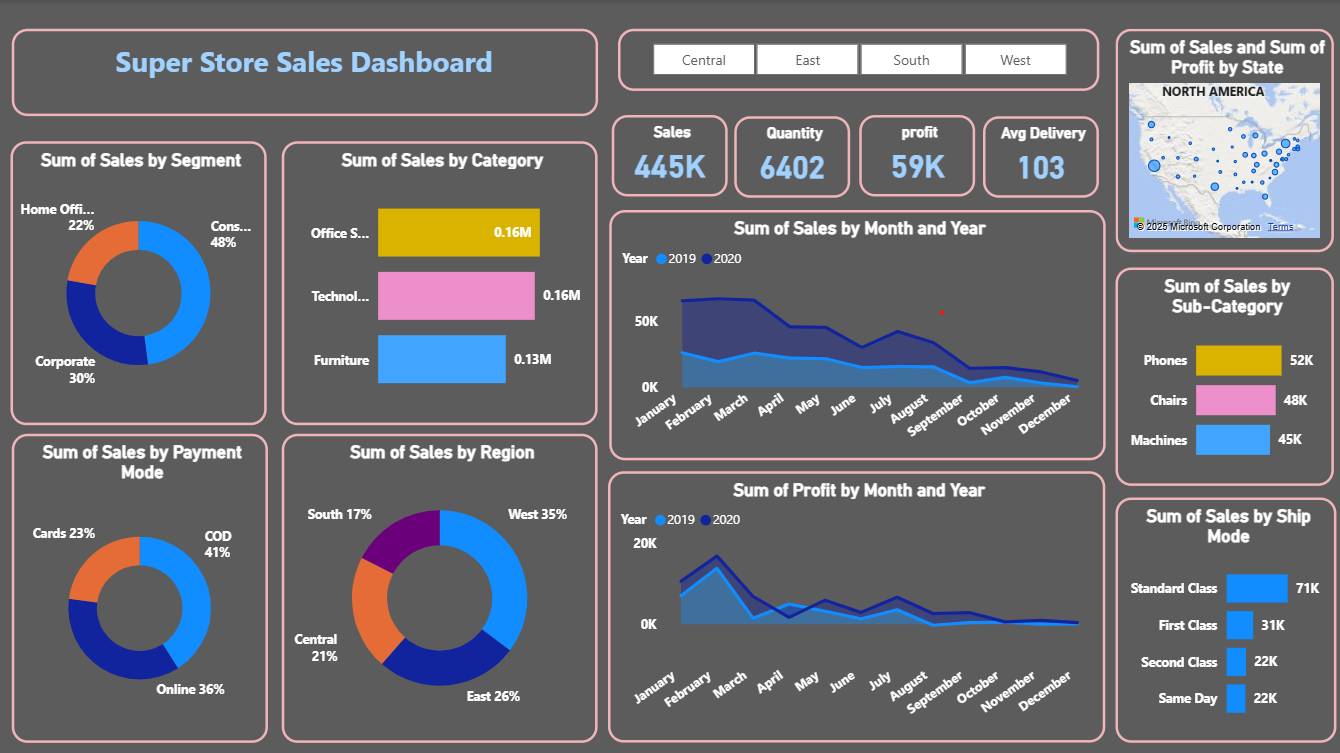

What the dashboard file says about the page in this screenshot:
{"tool":"powerbi","page":{"name":"Page 1","canvas":[1280,720],"ordinal":0},"visuals":[{"type":"clusteredBarChart","fields":{"Category":["SuperStore_Sales_Dataset.Category"],"Y":["Sum(SuperStore_Sales_Dataset.Sales)"]},"box":[270.2,134.5,301.2,270.2],"z":0},{"type":"clusteredBarChart","fields":{"Category":["SuperStore_Sales_Dataset.Sub-Category"],"Y":["Sum(SuperStore_Sales_Dataset.Sales)"]},"box":[1064.3,254.8,208.3,208.3],"z":1000},{"type":"clusteredBarChart","fields":{"Category":["SuperStore_Sales_Dataset.Ship Mode"],"Y":["Sum(SuperStore_Sales_Dataset.Sales)"]},"box":[1064.3,473.8,210.7,233.3],"z":2000},{"type":"stackedAreaChart","fields":{"Category":["SuperStore_Sales_Dataset.Order Date.Variation.Date Hierarchy.Month","SuperStore_Sales_Dataset.Order Date.Variation.Date Hierarchy.Day"],"Y":["Sum(SuperStore_Sales_Dataset.Sales)"],"Series":["SuperStore_Sales_Dataset.Order Date.Variation.Date Hierarchy.Year"]},"box":[582.1,200,472.6,238.1],"z":3000},{"type":"stackedAreaChart","fields":{"Category":["SuperStore_Sales_Dataset.Order Date.Variation.Date Hierarchy.Month","SuperStore_Sales_Dataset.Order Date.Variation.Date Hierarchy.Day"],"Series":["SuperStore_Sales_Dataset.Order Date.Variation.Date Hierarchy.Year"],"Y":["Sum(SuperStore_Sales_Dataset.Profit)"]},"box":[581,448.8,473.8,258.3],"z":4000},{"type":"map","fields":{"Category":["SuperStore_Sales_Dataset.State"],"Size":["Sum(SuperStore_Sales_Dataset.Sales)"]},"box":[1064.3,27.4,208.3,213.1],"z":5000},{"type":"donutChart","fields":{"Category":["SuperStore_Sales_Dataset.Segment"],"Y":["Sum(SuperStore_Sales_Dataset.Sales)"]},"box":[11.9,134.5,244,270.2],"z":6000},{"type":"donutChart","fields":{"Category":["SuperStore_Sales_Dataset.Payment Mode"],"Y":["Sum(SuperStore_Sales_Dataset.Sales)"]},"box":[13.1,413.1,244,294],"z":7000},{"type":"donutChart","fields":{"Category":["SuperStore_Sales_Dataset.Region"],"Y":["Sum(SuperStore_Sales_Dataset.Sales)"]},"box":[270.2,413.1,301.2,294],"z":8000},{"type":"slicer","fields":{"Values":["SuperStore_Sales_Dataset.Region"]},"box":[590.5,27.4,458.3,59.5],"z":9000},{"type":"textbox","box":[13.1,27.4,558.3,83.3],"z":10000},{"type":"card","title":"Sales","fields":{"Values":["Sum(SuperStore_Sales_Dataset.Sales)"]},"box":[584.5,109.5,110.7,77.4],"z":11000},{"type":"card","title":"Quantity","fields":{"Values":["Sum(SuperStore_Sales_Dataset.Quantity)"]},"box":[701.2,110.7,110.7,77.4],"z":12000},{"type":"card","title":"profit","fields":{"Values":["Sum(SuperStore_Sales_Dataset.Profit)"]},"box":[820.2,109.5,110.7,77.4],"z":13000},{"type":"card","title":"Avg Delivery","fields":{"Values":["Avg(SuperStore_Sales_Dataset.AvgDelivery)"]},"box":[938.1,110.7,110.7,77.4],"z":14000}]}

Visuals, with their boxes in screenshot pixels (x1, y1, x2, y2), scaled from the page's 1280x720 canvas onto the 1340x753 screenshot:
clusteredBarChart - SuperStore_Sales_Dataset.Category x Sum(SuperStore_Sales_Dataset.Sales): 283, 141, 598, 423
clusteredBarChart - SuperStore_Sales_Dataset.Sub-Category x Sum(SuperStore_Sales_Dataset.Sales): 1114, 266, 1332, 484
clusteredBarChart - SuperStore_Sales_Dataset.Ship Mode x Sum(SuperStore_Sales_Dataset.Sales): 1114, 496, 1335, 740
stackedAreaChart - SuperStore_Sales_Dataset.Order Date.Variation.Date Hierarchy.Month x SuperStore_Sales_Dataset.Order Date.Variation.Date Hierarchy.Day: 609, 209, 1104, 458
stackedAreaChart - SuperStore_Sales_Dataset.Order Date.Variation.Date Hierarchy.Month x SuperStore_Sales_Dataset.Order Date.Variation.Date Hierarchy.Day: 608, 469, 1104, 740
map - SuperStore_Sales_Dataset.State x Sum(SuperStore_Sales_Dataset.Sales): 1114, 29, 1332, 252
donutChart - SuperStore_Sales_Dataset.Segment x Sum(SuperStore_Sales_Dataset.Sales): 12, 141, 268, 423
donutChart - SuperStore_Sales_Dataset.Payment Mode x Sum(SuperStore_Sales_Dataset.Sales): 14, 432, 269, 740
donutChart - SuperStore_Sales_Dataset.Region x Sum(SuperStore_Sales_Dataset.Sales): 283, 432, 598, 740
slicer - SuperStore_Sales_Dataset.Region: 618, 29, 1098, 91
textbox: 14, 29, 598, 116
"Sales" card: 612, 115, 728, 195
"Quantity" card: 734, 116, 850, 197
"profit" card: 859, 115, 975, 195
"Avg Delivery" card: 982, 116, 1098, 197
